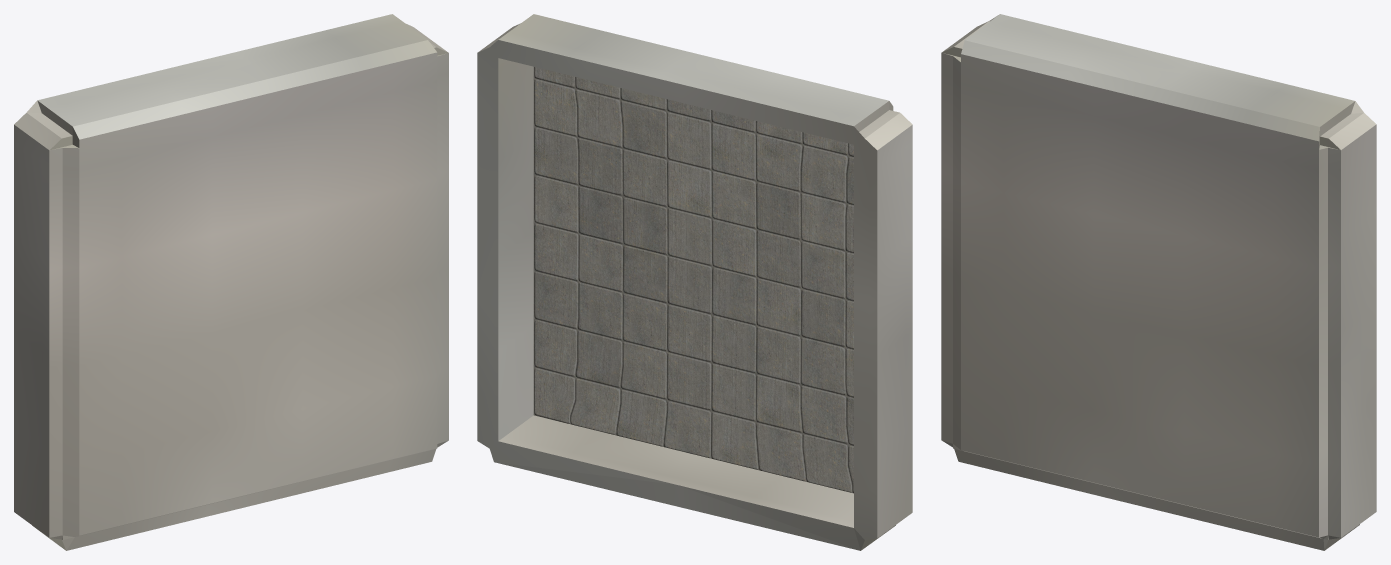
The model's file is Piscine.dae.
The picture shows the model from 3 angles, left to right: view 1: azimuth 30°, elevation 25°; view 2: azimuth 150°, elevation 25°; view 3: azimuth 330°, elevation 25°; orthographic projection.
Visible parts, largest first — view 1: Cube; view 2: Cube; view 3: Cube.
Boxes of the visible parts, <box> form: Cube: <box>14,14,448,550</box>; Cube: <box>477,14,912,550</box>; Cube: <box>941,14,1376,550</box>.
Size of the model in its own units: 64.54 by 11.35 by 65.32.
Materials: 1 (1 with a texture image).
